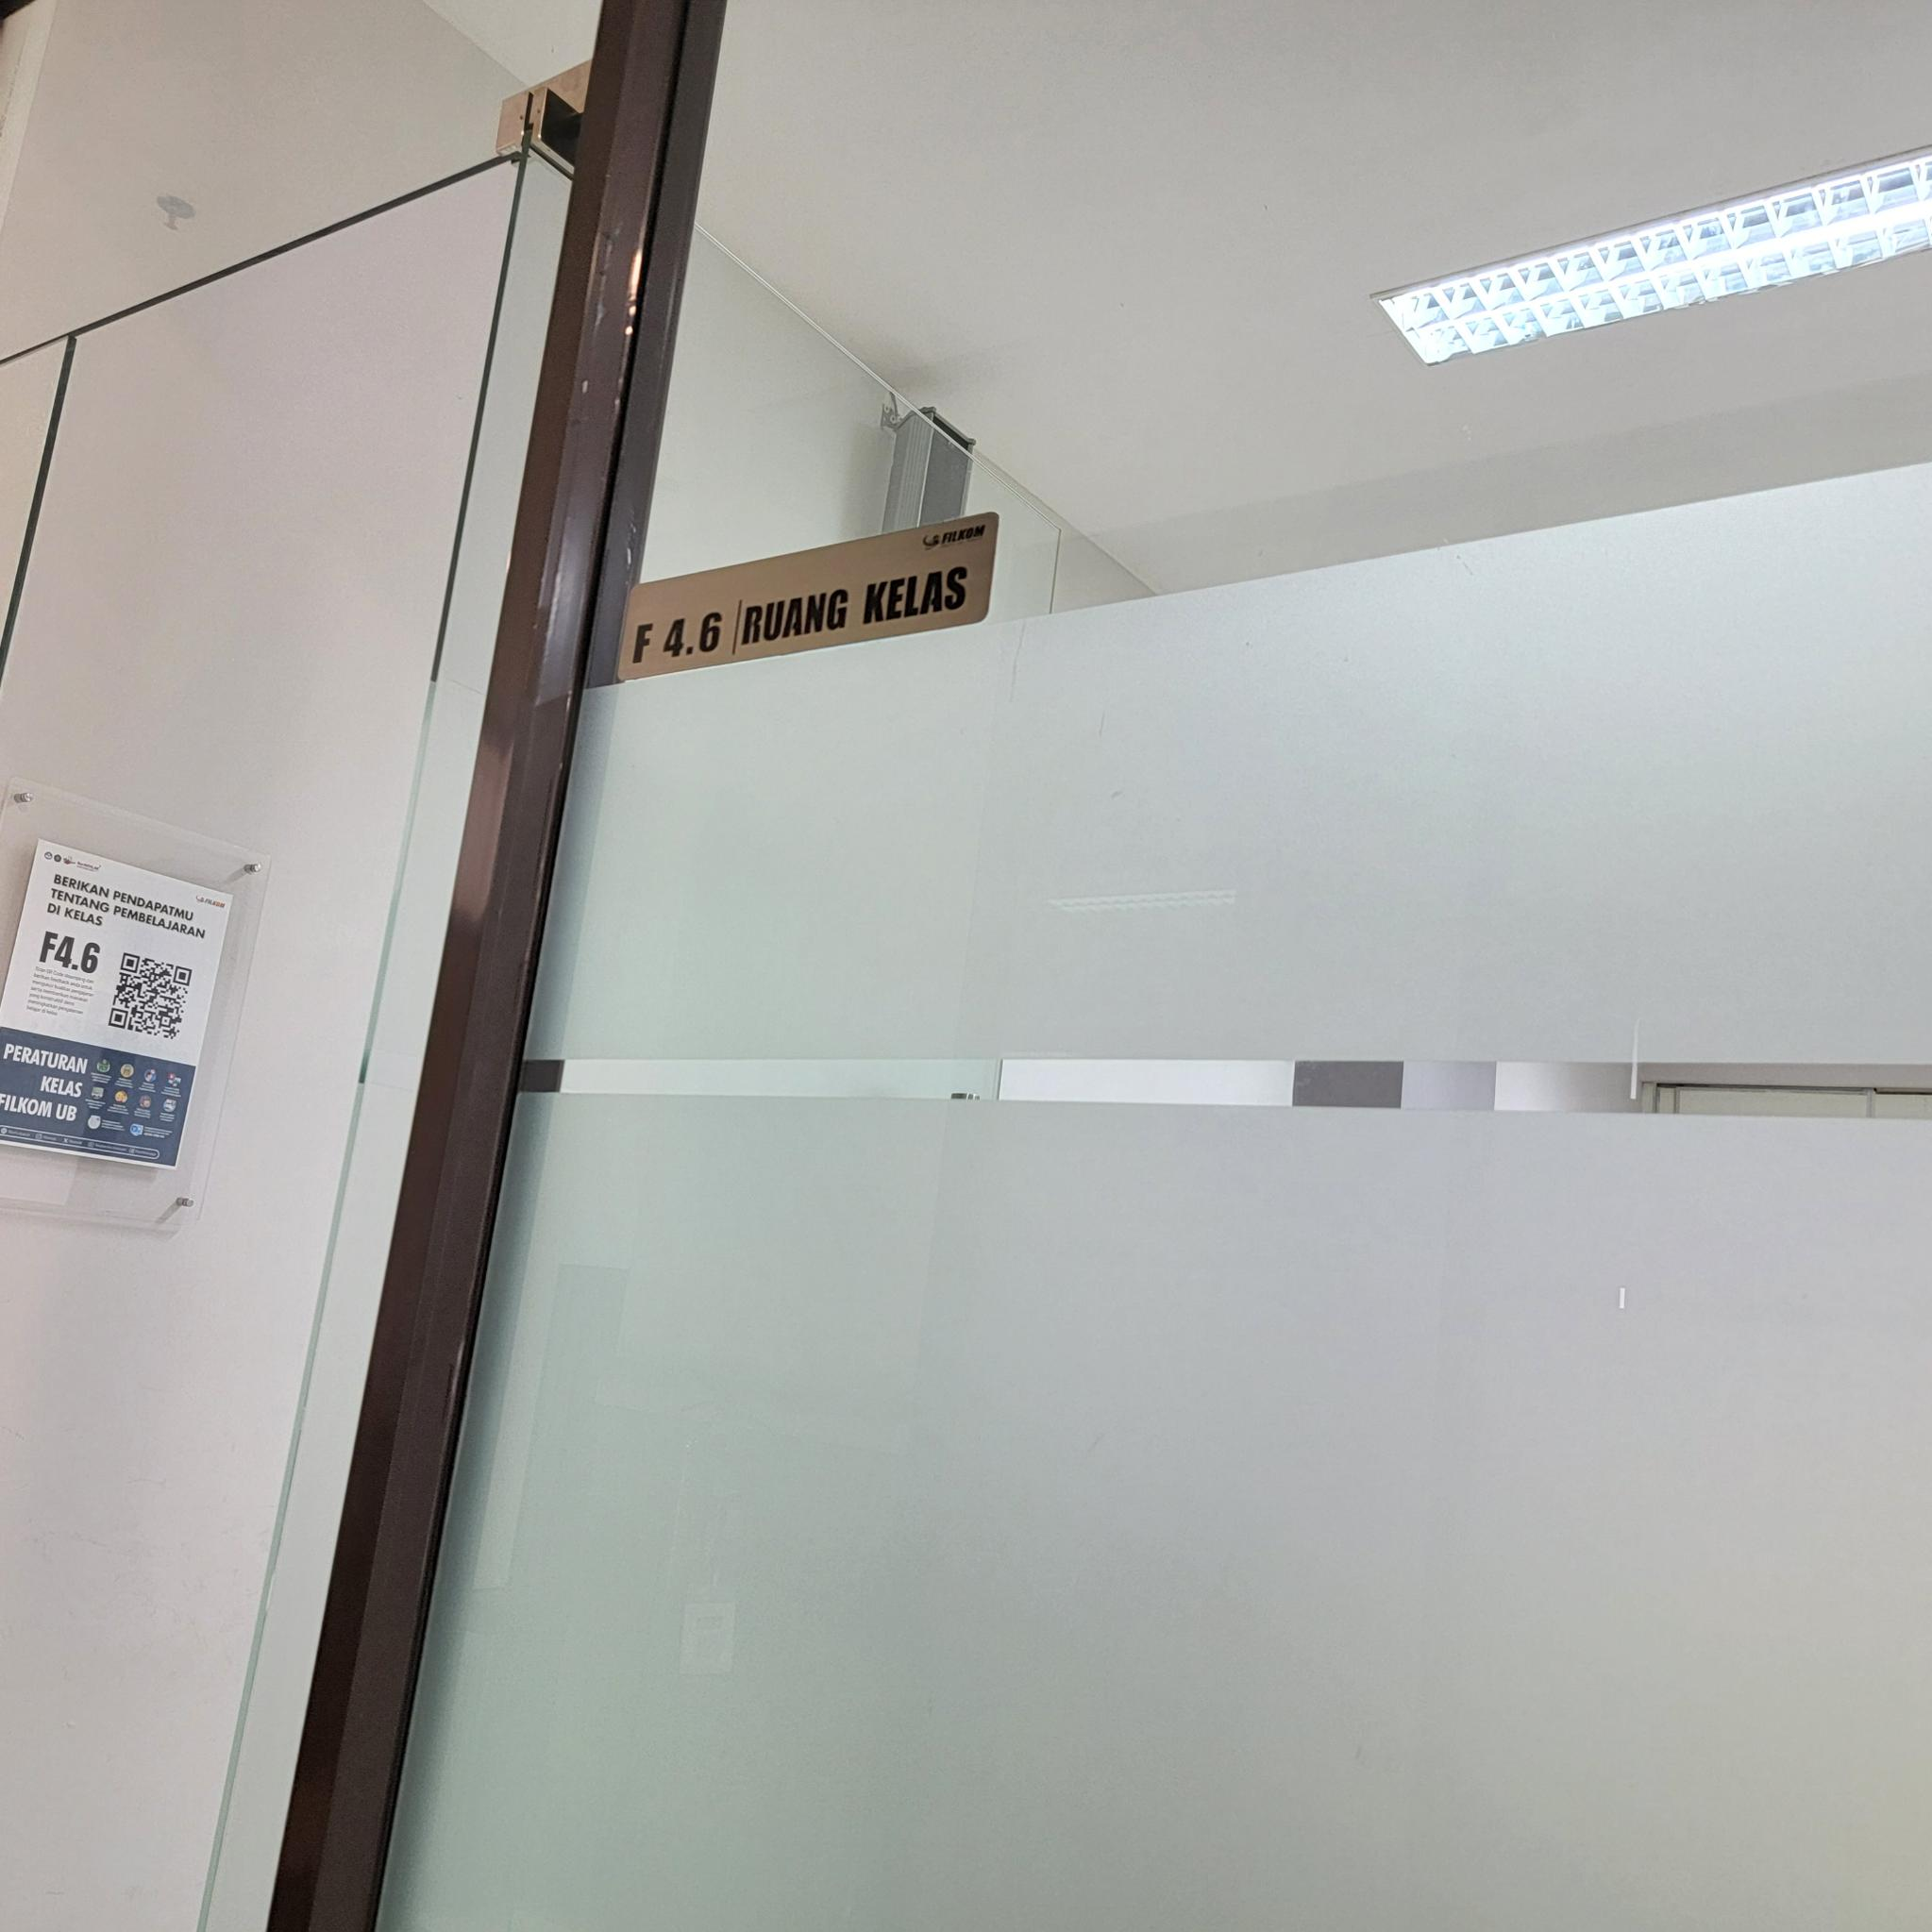plate: (616, 511, 1001, 683)
